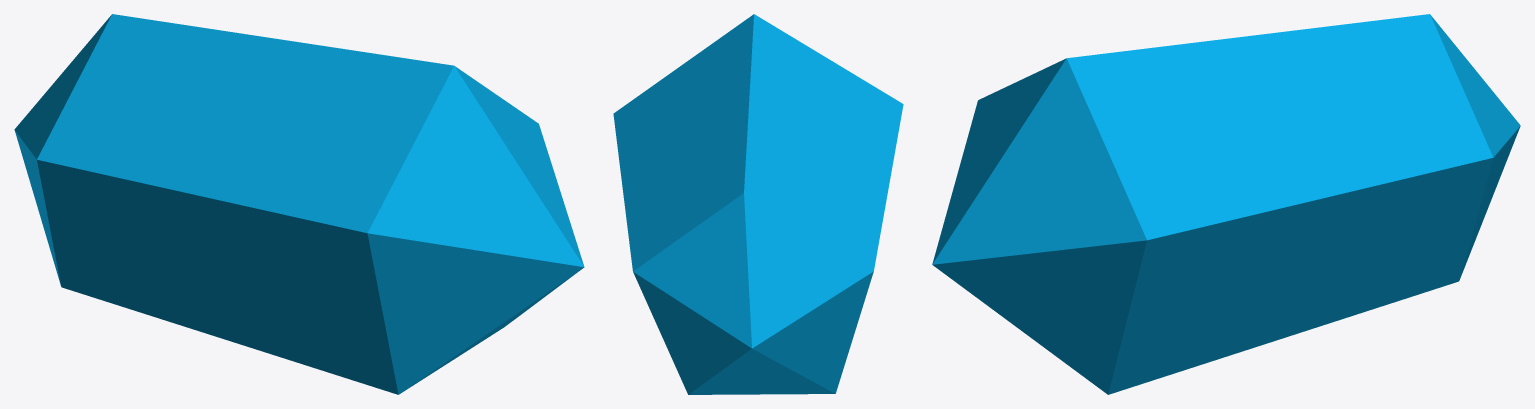
The model's file is Sml_Crystal_001.fbx.
The picture shows the model from 3 angles, left to right: view 1: azimuth 30°, elevation 25°; view 2: azimuth 150°, elevation 25°; view 3: azimuth 270°, elevation 25°; orthographic projection. The views are drawn at different scales.
Visible parts, largest first — view 1: Sml_Crystal_001; view 2: Sml_Crystal_001; view 3: Sml_Crystal_001.
Boxes of the visible parts, x1,y1,x2,y2 form: Sml_Crystal_001: (14,14,584,394); Sml_Crystal_001: (613,14,903,394); Sml_Crystal_001: (932,14,1520,394).
Size of the model in its own units: 66.04 by 46.1 by 81.56.
